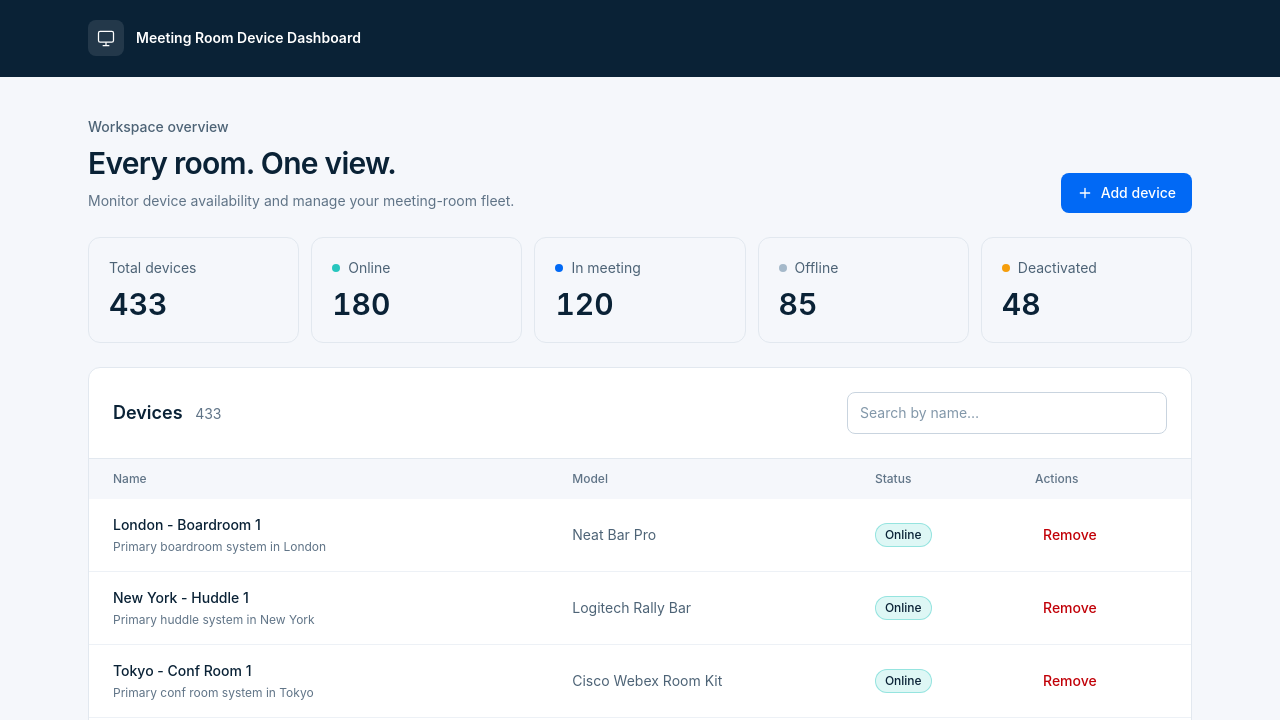
device management › removes a device, updates counts, and announces success
The image size is (1280, 720).
Click the button with aria-label "Remove London - Boardroom 1". click: (1070, 535)
box: [1035, 521, 1105, 549]
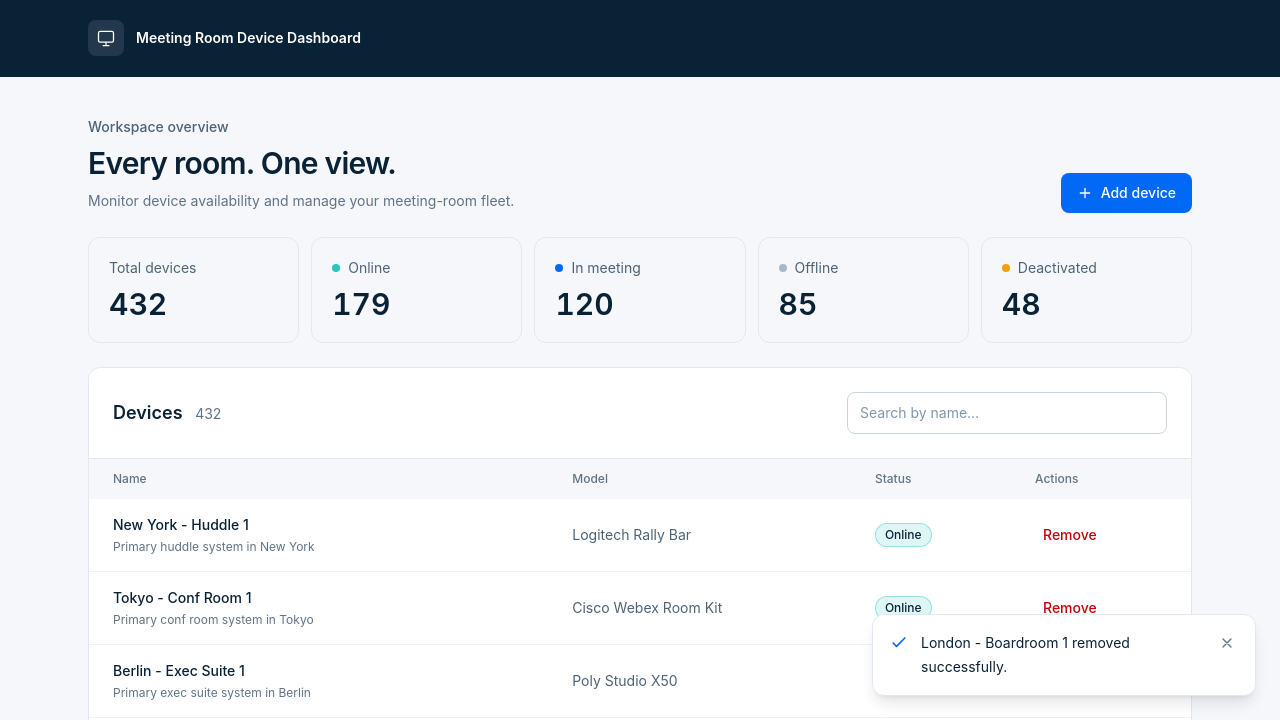
Expected: the text "432" below "Total devices" is shown, [109, 286, 167, 322]
Expected: the text "179" is shown, [332, 286, 390, 322]
Expected: the message reads "London - Boardroom 1 removed successfully.", [921, 634, 1130, 675]
